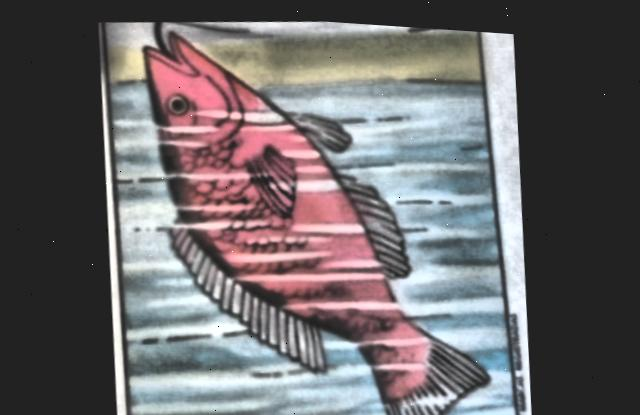El Pescado: (104, 16, 518, 415)
